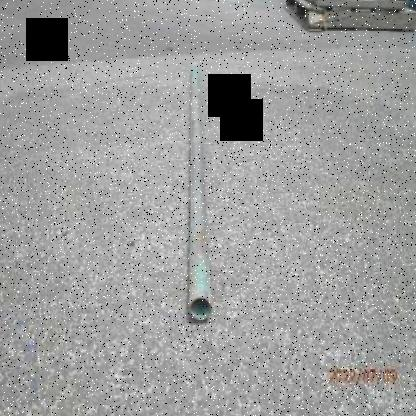pipe: (189, 297, 212, 322)
